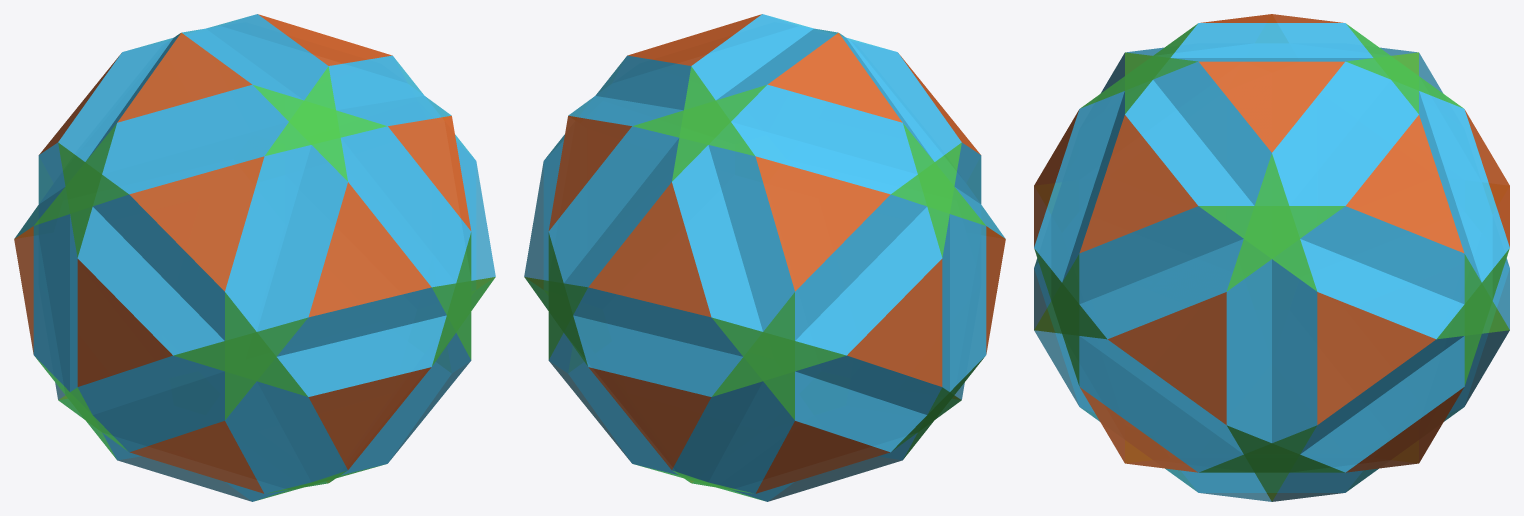
File: SmallIcosicosidodecahedron.obj
3 renders of one model, left to right at view 1: azimuth 30°, elevation 25°; view 2: azimuth 150°, elevation 25°; view 3: azimuth 270°, elevation 25°, orthographic. The views are drawn at different scales.
Bounding box in the file's own units: 3.24 × 3.24 × 3.24.
